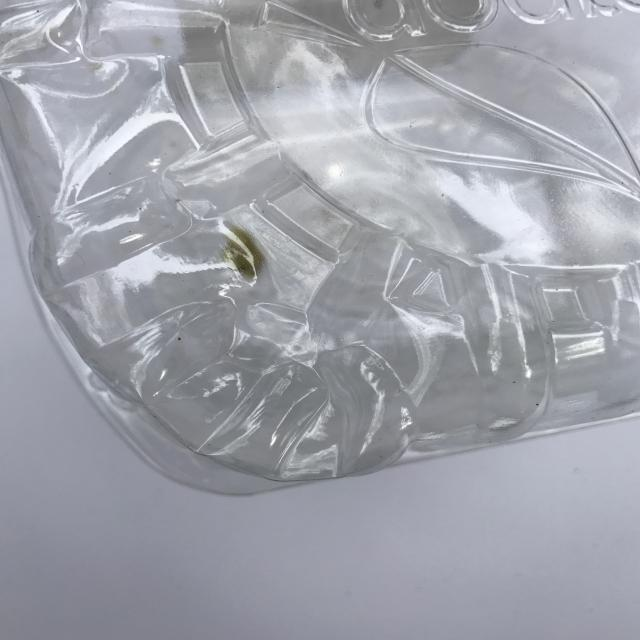plastic: (0, 0, 640, 495)
